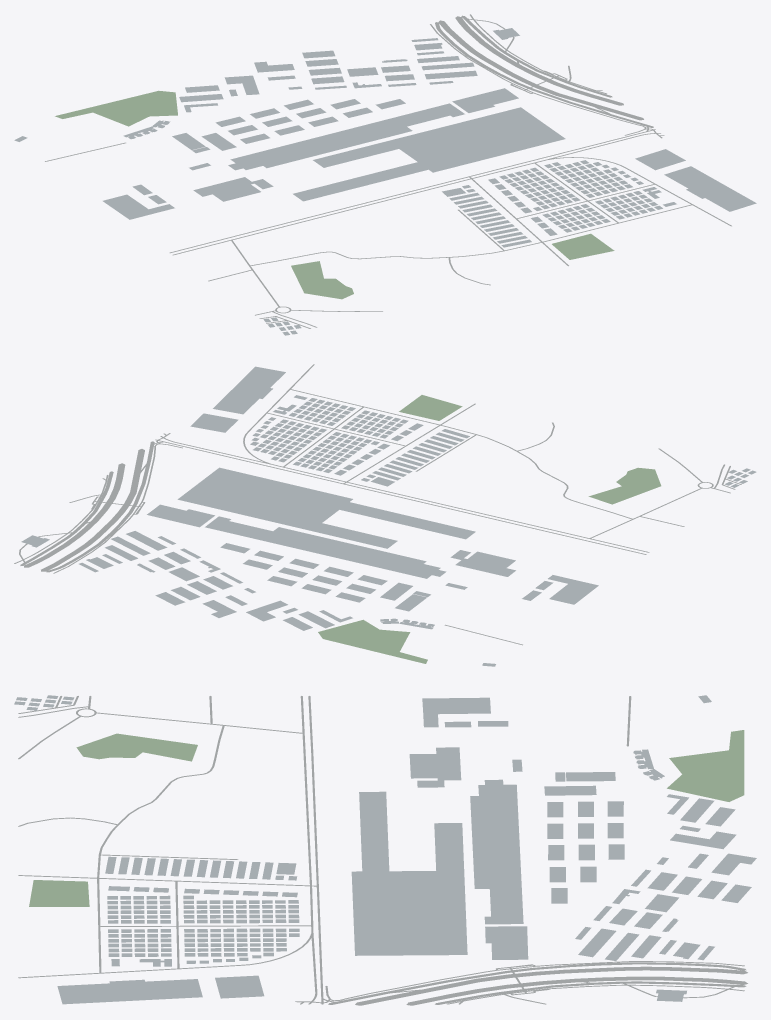
Rendered from -23_19-known-fine.glb.
The picture shows the model from 3 angles, top to bottom: view 1: azimuth 30°, elevation 25°; view 2: azimuth 150°, elevation 25°; view 3: azimuth 270°, elevation 25°; orthographic projection. The views are drawn at different scales.
Bounding box in the file's own units: 1008 × 0.15 × 1019.
